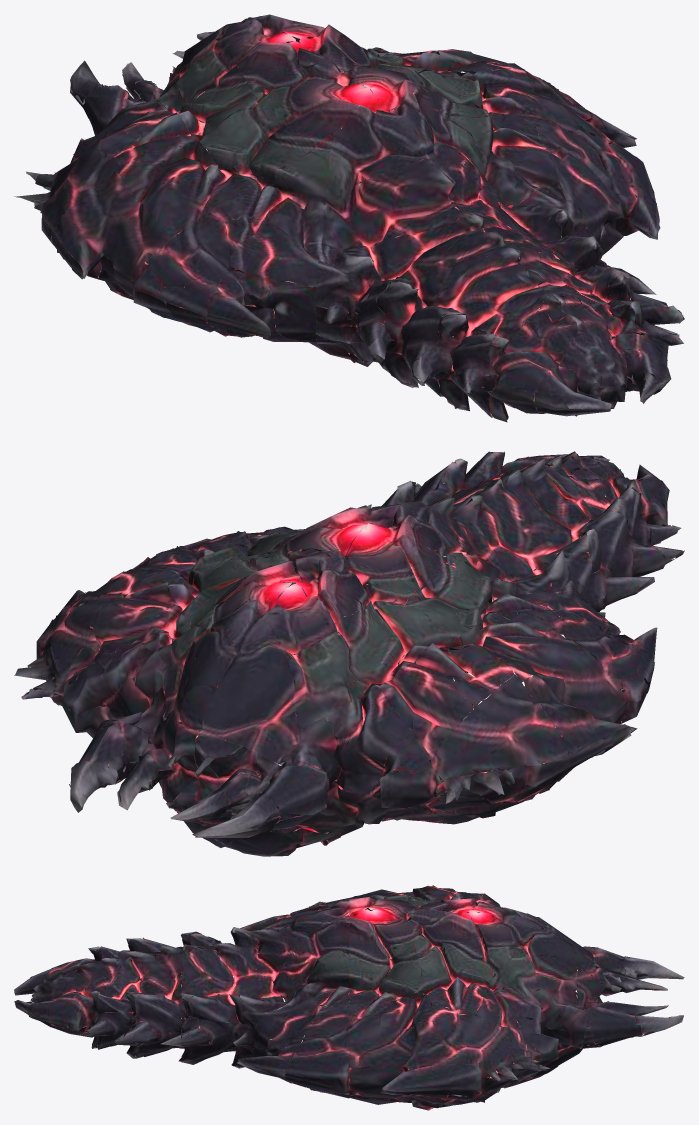
Rendered from vexor.glb.
The picture shows the model from 3 angles, top to bottom: view 1: azimuth 30°, elevation 25°; view 2: azimuth 150°, elevation 25°; view 3: azimuth 270°, elevation 25°; orthographic projection. The views are drawn at different scales.
Visible parts, largest first — view 1: vexor; view 2: vexor; view 3: vexor.
Part boxes in pixels (x1,y1,x2,y2): vexor: (14, 14, 684, 422); vexor: (14, 451, 684, 856); vexor: (14, 885, 684, 1110).
Bounding box in the file's own units: 1.25 × 0.574 × 1.9.
1 material, 1 textured.
